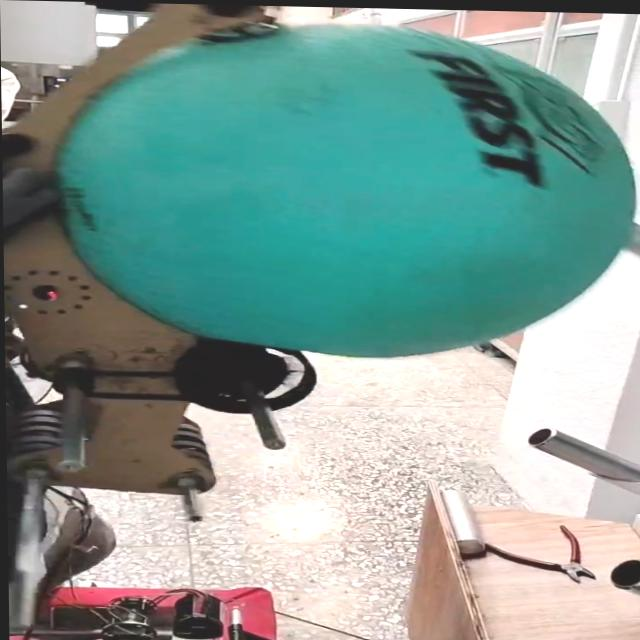ALGAE: (54, 20, 635, 366)
